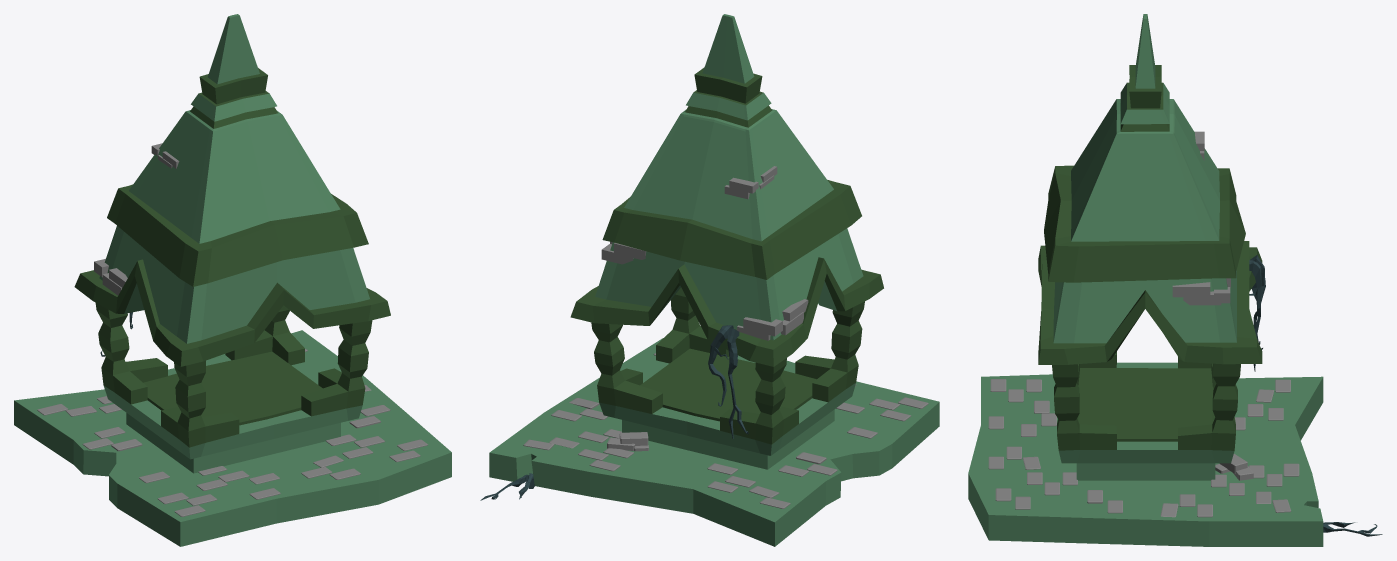
Rendered from Swamp_Structure_Main.fbx.
3 views of the same model, side by side, from view 1: azimuth 30°, elevation 25°; view 2: azimuth 150°, elevation 25°; view 3: azimuth 270°, elevation 25° (orthographic). The views are drawn at different scales.
Visible parts, largest first — view 1: Swamp Structure Main; view 2: Swamp Structure Main; view 3: Swamp Structure Main.
Part boxes in pixels (bbox=[...]): Swamp Structure Main: bbox=[14, 14, 451, 546]; Swamp Structure Main: bbox=[480, 14, 939, 546]; Swamp Structure Main: bbox=[968, 14, 1382, 546].
Size of the model in its own units: 1854 by 2680 by 2186.
